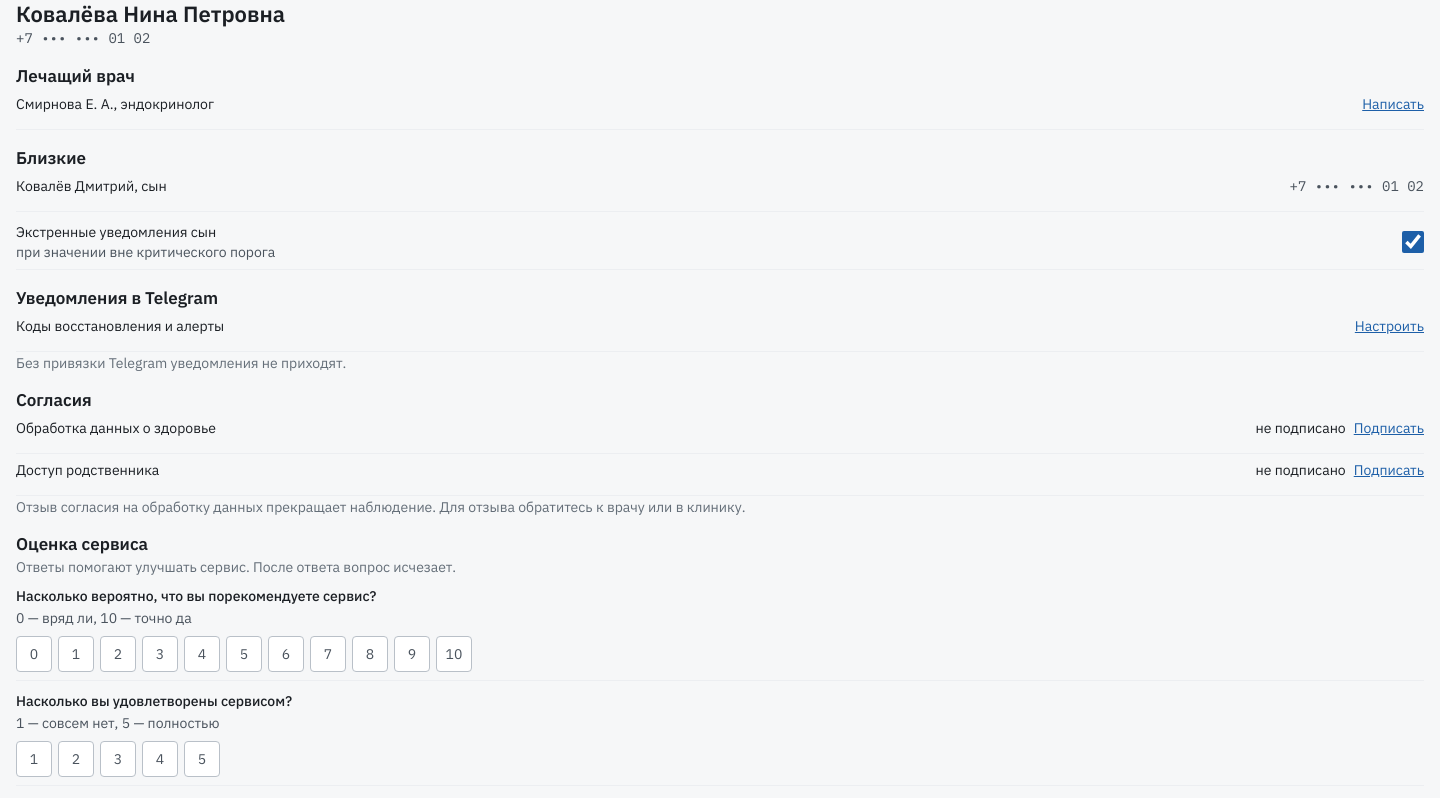
PatientProfile › показывает ошибку, если согласие не подписалось
Click the button with aria-label "Подписать согласие «Обработка данных о здоровье»".
click(1389, 428)  # box [1354, 418, 1424, 438]
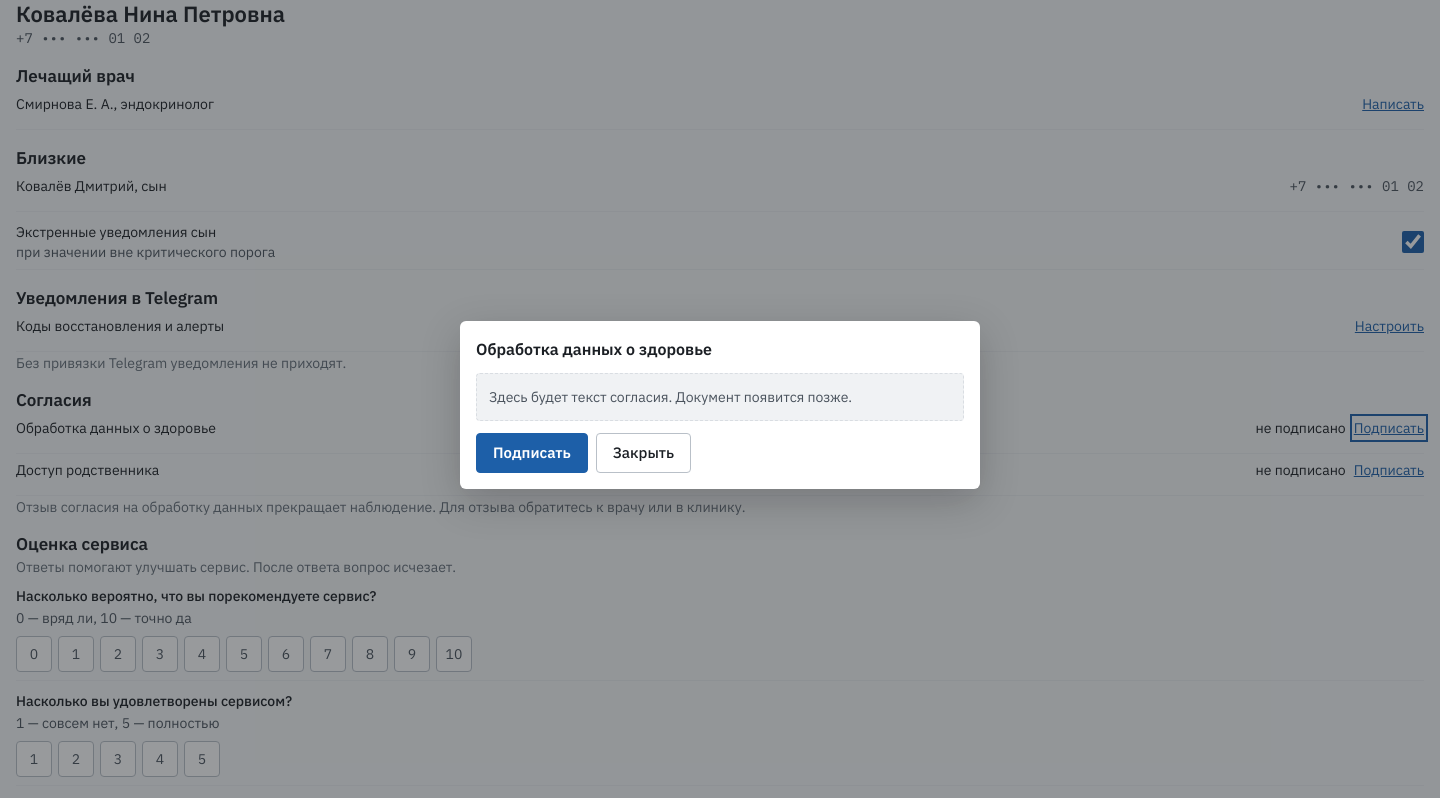
Click the button "Подписать".
click(532, 453)  # box [476, 433, 588, 473]
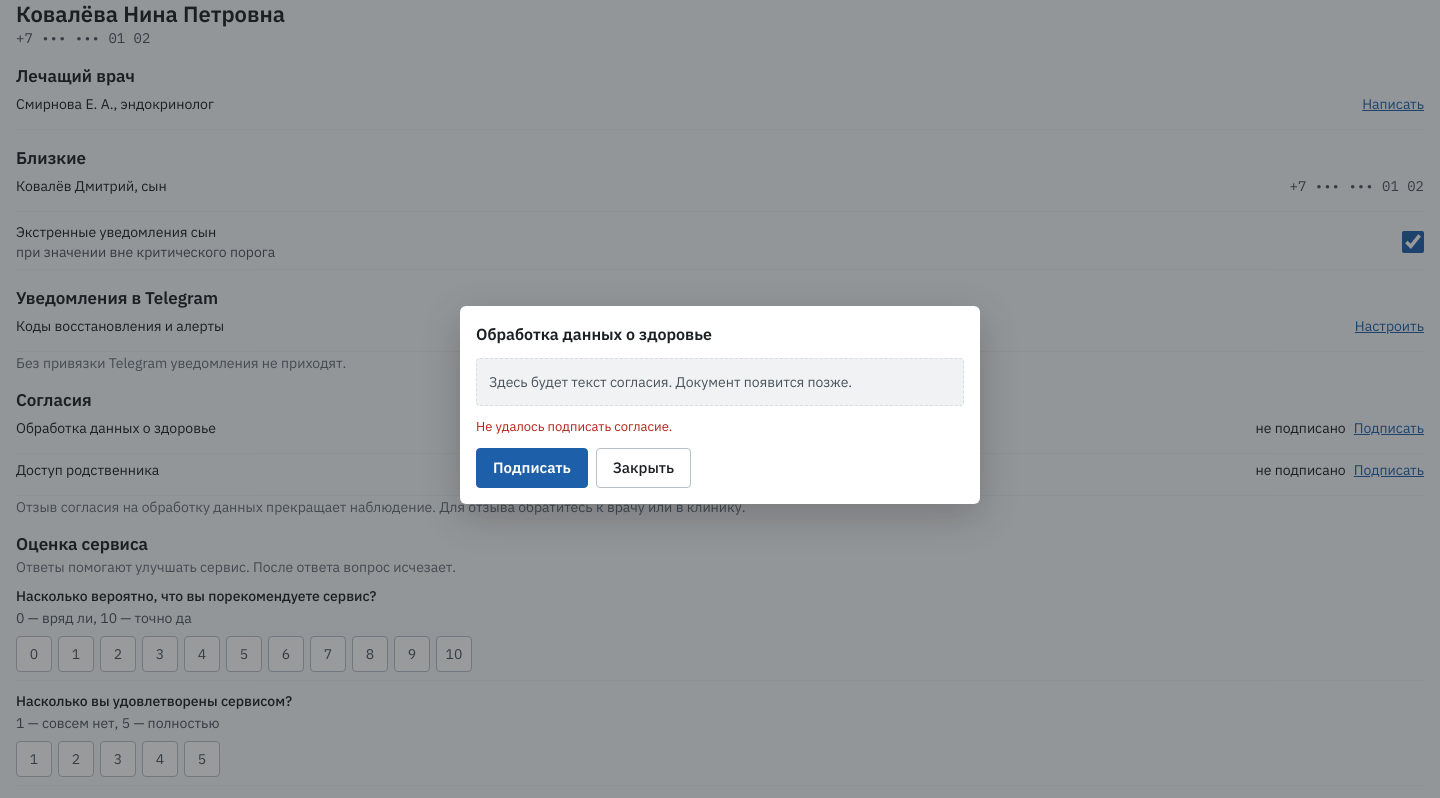
expect the message shows "Не удалось подписать согласие": met, box [476, 418, 672, 435]
